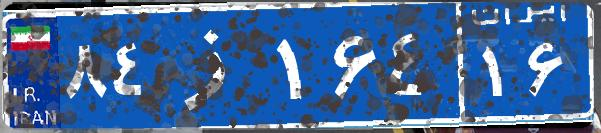1: (273, 28, 330, 110), (475, 38, 525, 113)
4: (385, 28, 445, 110), (110, 28, 158, 105)
6: (330, 28, 385, 110), (525, 38, 570, 115)
8: (57, 26, 110, 107)
ز: (158, 15, 273, 115)
